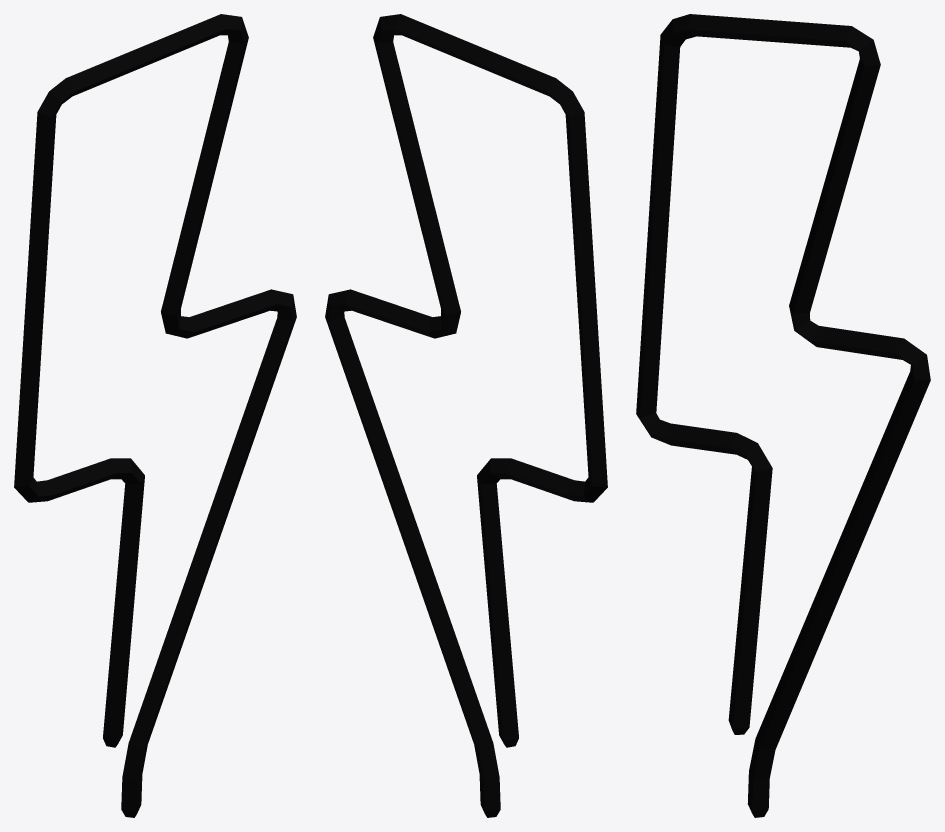
Rendered from SM_Prop_Casino_Neon_12.fbx.
3 views of the same model, side by side, from view 1: azimuth 30°, elevation 25°; view 2: azimuth 150°, elevation 25°; view 3: azimuth 330°, elevation 25° (orthographic). The views are drawn at different scales.
Parts seen in each view (by area): view 1: SM_Prop_Casino_Neon_12; view 2: SM_Prop_Casino_Neon_12; view 3: SM_Prop_Casino_Neon_12.
Boxes of the visible parts, left/top/right/bottom form: SM_Prop_Casino_Neon_12: left=14, top=14, right=296, bottom=817; SM_Prop_Casino_Neon_12: left=325, top=14, right=607, bottom=817; SM_Prop_Casino_Neon_12: left=636, top=14, right=930, bottom=817.
Bounding box in the file's own units: 107 × 281 × 7.6.
